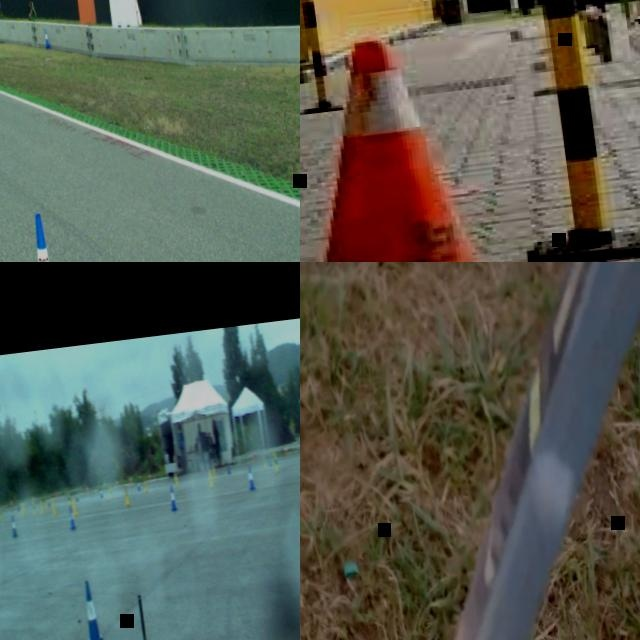NO-Safety Vest: (28, 4, 35, 20), (0, 4, 2, 18)
Person: (570, 0, 615, 17), (25, 0, 35, 21), (0, 0, 2, 19)
Safety Cone: (300, 23, 532, 262), (19, 210, 67, 262), (77, 577, 104, 640), (166, 484, 178, 512), (246, 465, 255, 490), (67, 505, 76, 530), (9, 514, 18, 538), (271, 449, 279, 472), (122, 485, 130, 507), (50, 498, 58, 518), (207, 469, 214, 487), (19, 498, 26, 515), (43, 29, 49, 48), (71, 497, 77, 515), (30, 500, 37, 515), (38, 498, 44, 514), (266, 451, 272, 466), (261, 454, 267, 468), (224, 461, 230, 475), (107, 485, 113, 499), (173, 471, 178, 486), (135, 480, 141, 492), (211, 465, 216, 479), (66, 492, 71, 506), (283, 444, 289, 455), (98, 485, 103, 498), (15, 498, 20, 511), (142, 479, 147, 491), (75, 489, 79, 501), (113, 477, 118, 486), (147, 471, 151, 480), (84, 483, 88, 492), (128, 476, 132, 484)
